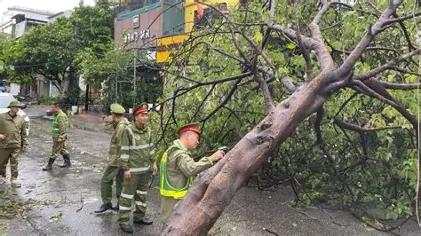ROAD_OBSTACLE: (71, 2, 421, 234)
